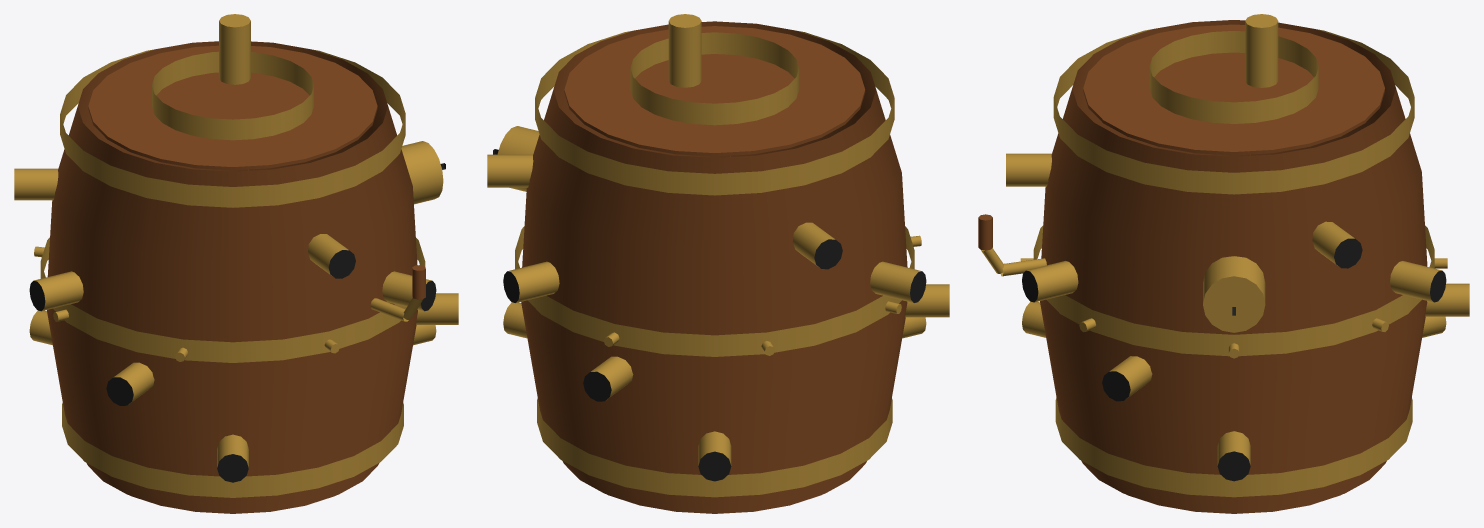
File: steampunk_barrel_holes.obj
3 renders of one model, left to right at view 1: azimuth 30°, elevation 25°; view 2: azimuth 150°, elevation 25°; view 3: azimuth 270°, elevation 25°, orthographic. The views are drawn at different scales.
Parts seen in each view (by area): view 1: SteampunkBarrel; view 2: SteampunkBarrel; view 3: SteampunkBarrel.
Boxes of the visible parts, box(x1,y1,x2,y2) form: SteampunkBarrel: box(14, 14, 458, 513); SteampunkBarrel: box(487, 14, 949, 513); SteampunkBarrel: box(978, 14, 1469, 513).
Size of the model in its own units: 2.67 by 2.62 by 2.67.
